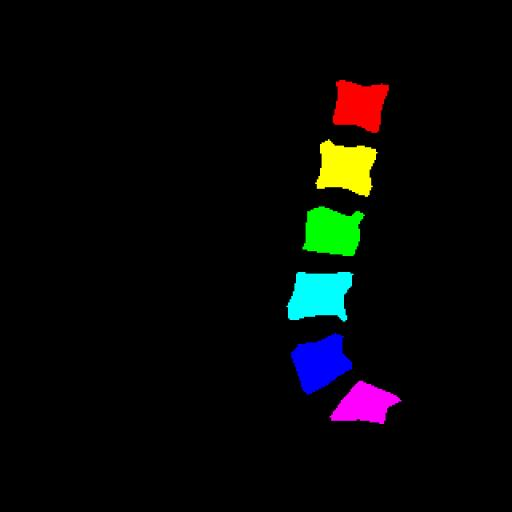L1: (333, 80, 389, 133)
L2: (316, 140, 376, 196)
L3: (303, 206, 364, 256)
L4: (287, 272, 353, 321)
L5: (291, 334, 352, 394)
S1: (330, 381, 401, 424)
